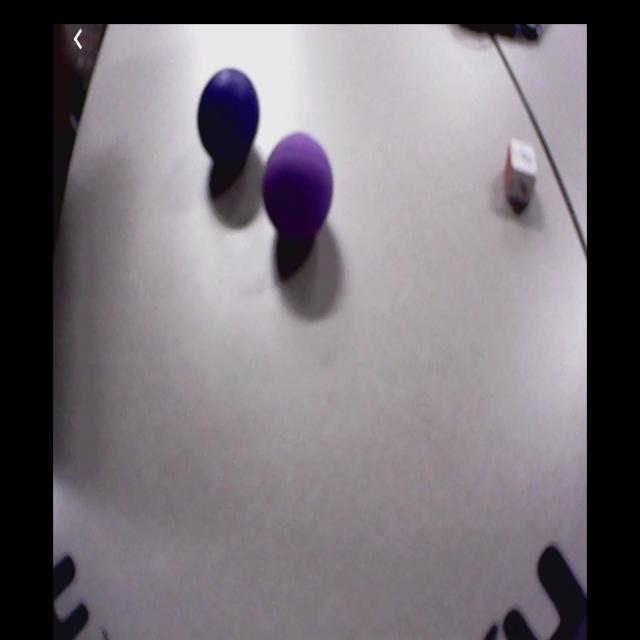ball: (262, 132, 332, 235), (198, 67, 259, 159)
